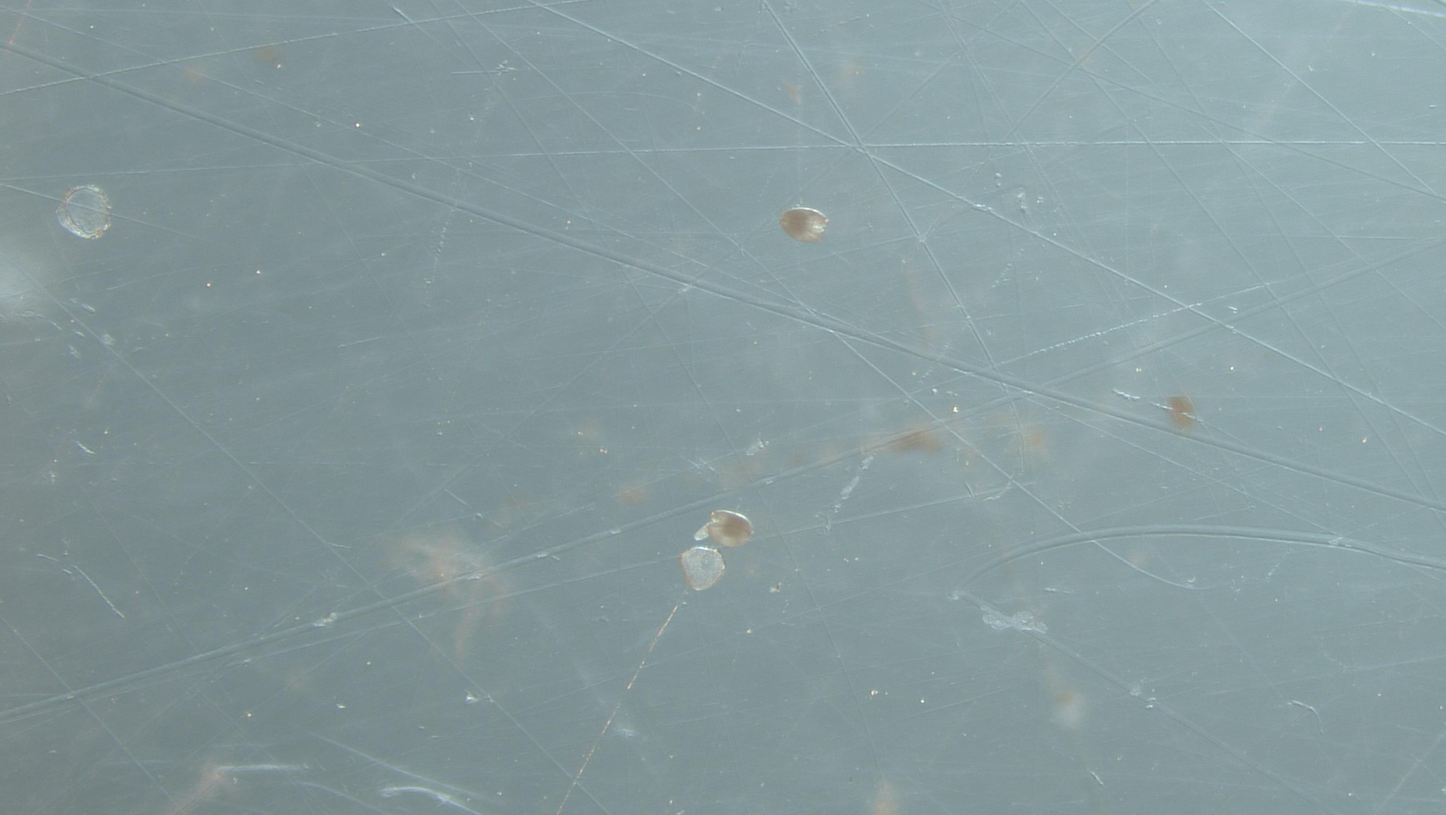dead: (56, 186, 110, 240), (680, 547, 726, 591)
live: (698, 510, 754, 547), (780, 207, 828, 243)
